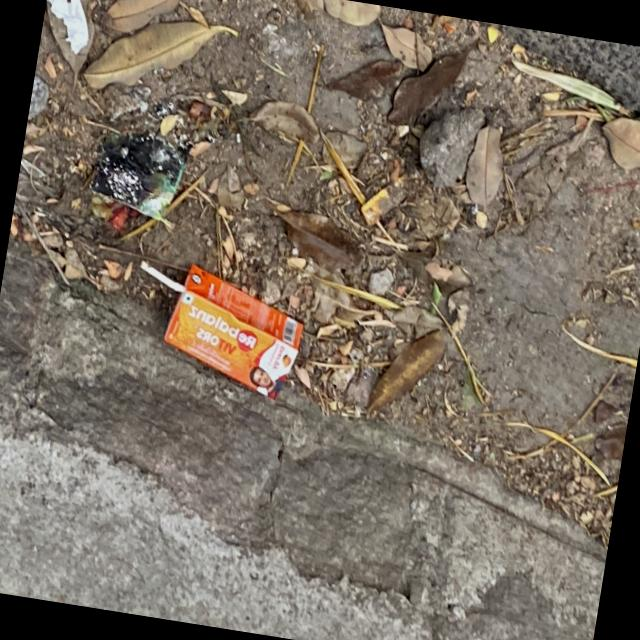ly_hop_giay: (140, 261, 302, 400)
